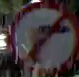Don't turn right: (6, 1, 76, 73)
